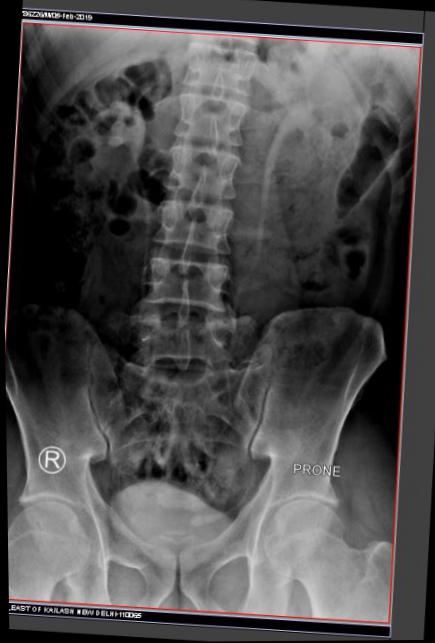bladder: (98, 456, 243, 560)
vertebrae: (168, 89, 253, 150)
